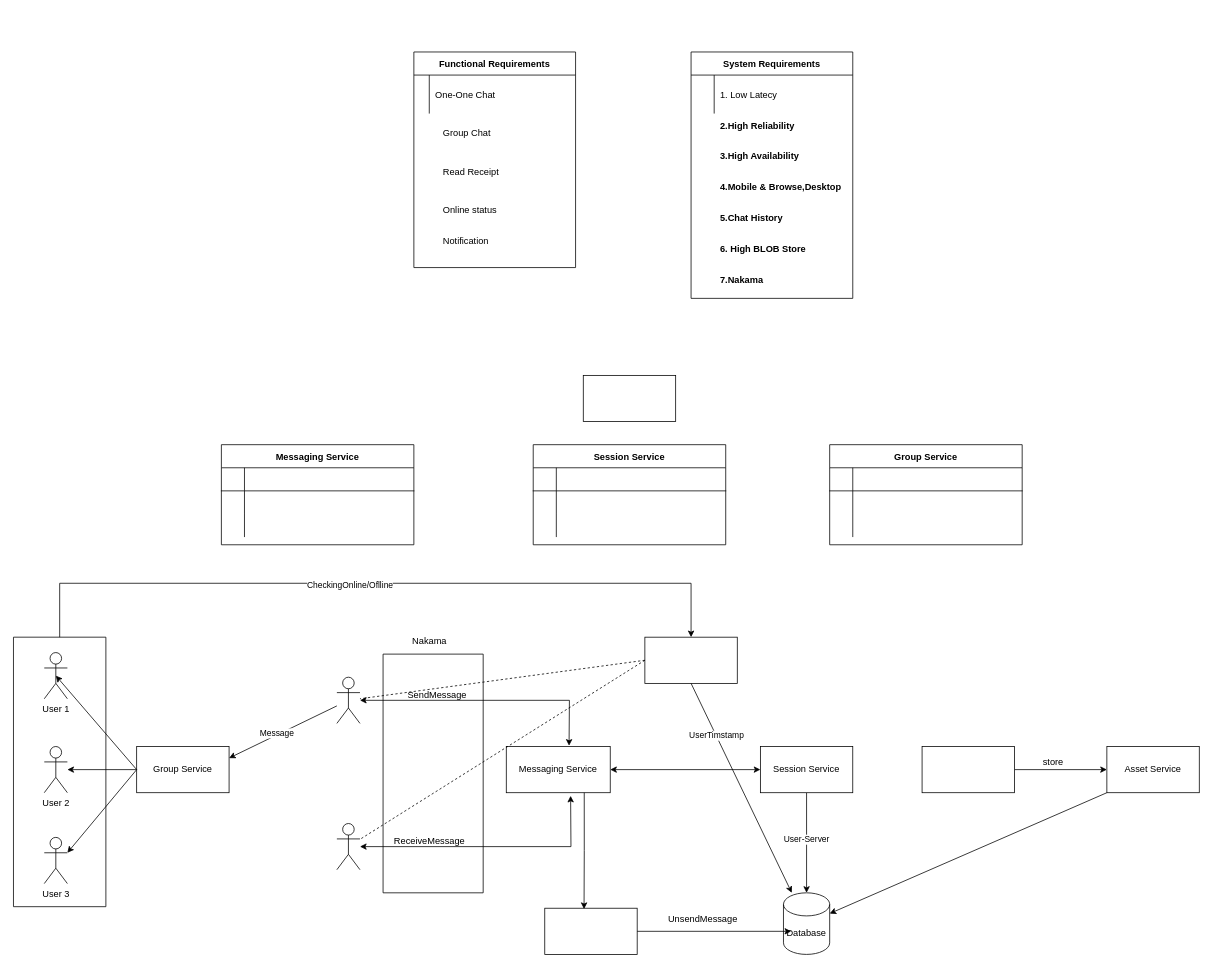
Some shapes in this 1213 by 968 pixel diagram are drawn without their labels. The centre of each missing label's shape, as x and y in pixels:
Highlevel: the point at 629,398
LastSeenService: the point at 690,659
Mobile App, Brower: the point at 967,769
RelayService(if User offline): the point at 590,930
User A: the point at 348,699
User B: the point at 348,846
